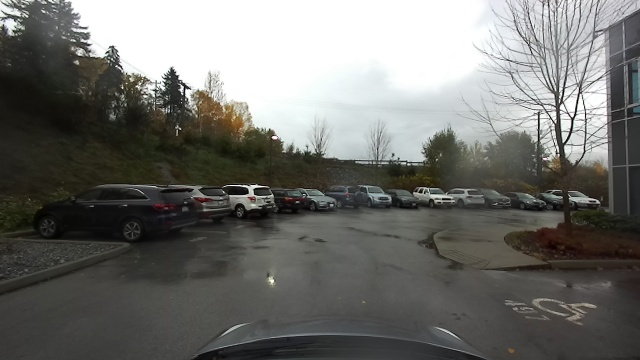car: (32, 184, 200, 235), (223, 182, 279, 220), (183, 184, 229, 226), (546, 188, 603, 207), (357, 182, 388, 212), (330, 181, 361, 210), (303, 188, 335, 213), (422, 187, 456, 210), (274, 188, 303, 214), (515, 190, 543, 213), (459, 187, 485, 211), (390, 188, 417, 208), (486, 187, 509, 210)
